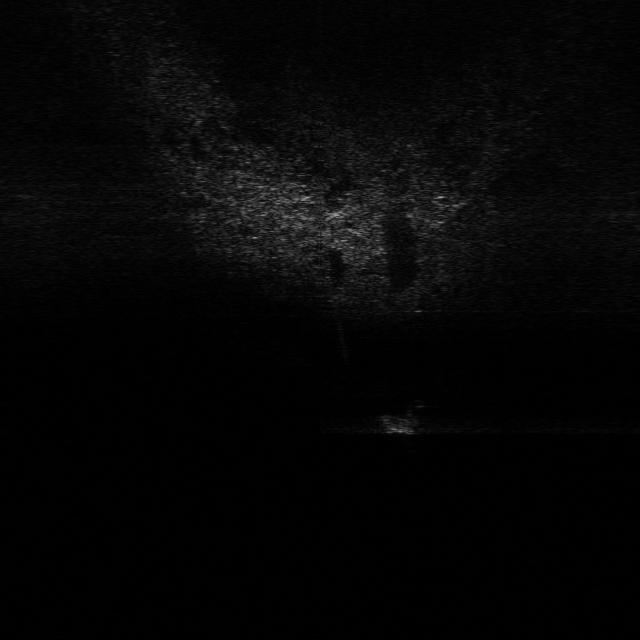cube: (378, 391, 437, 441)
